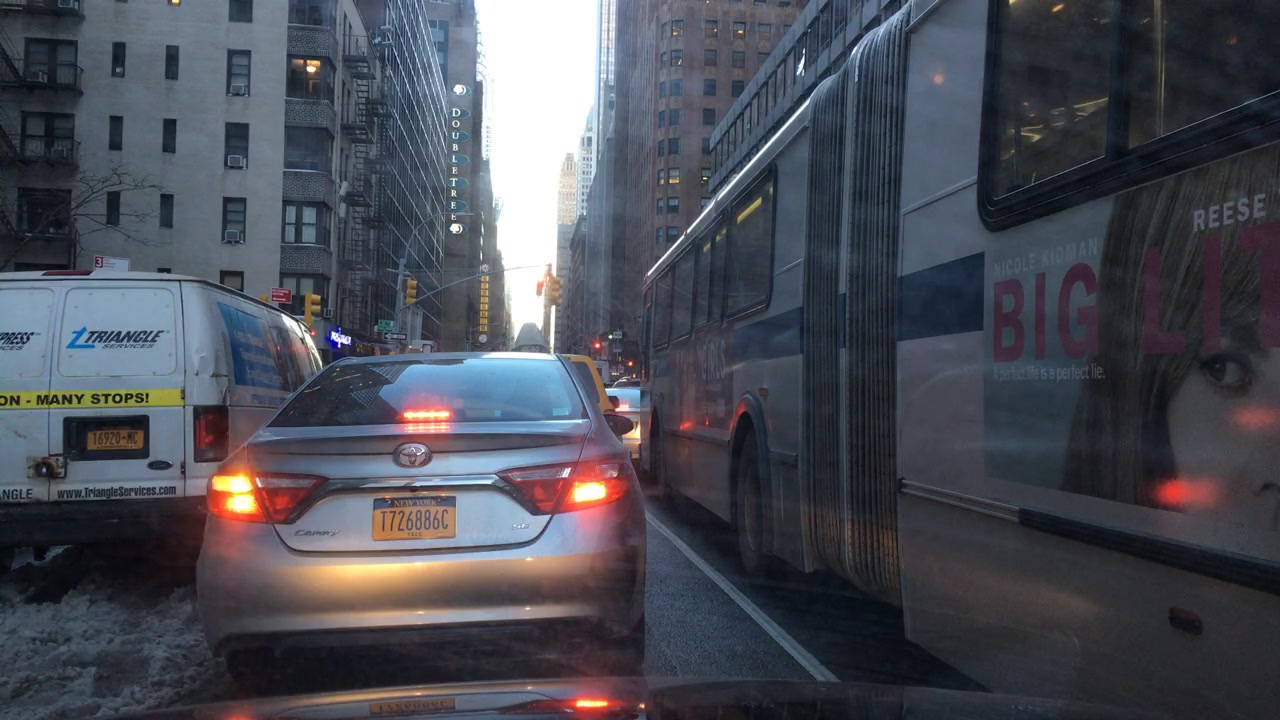licence: (368, 493, 459, 543)
